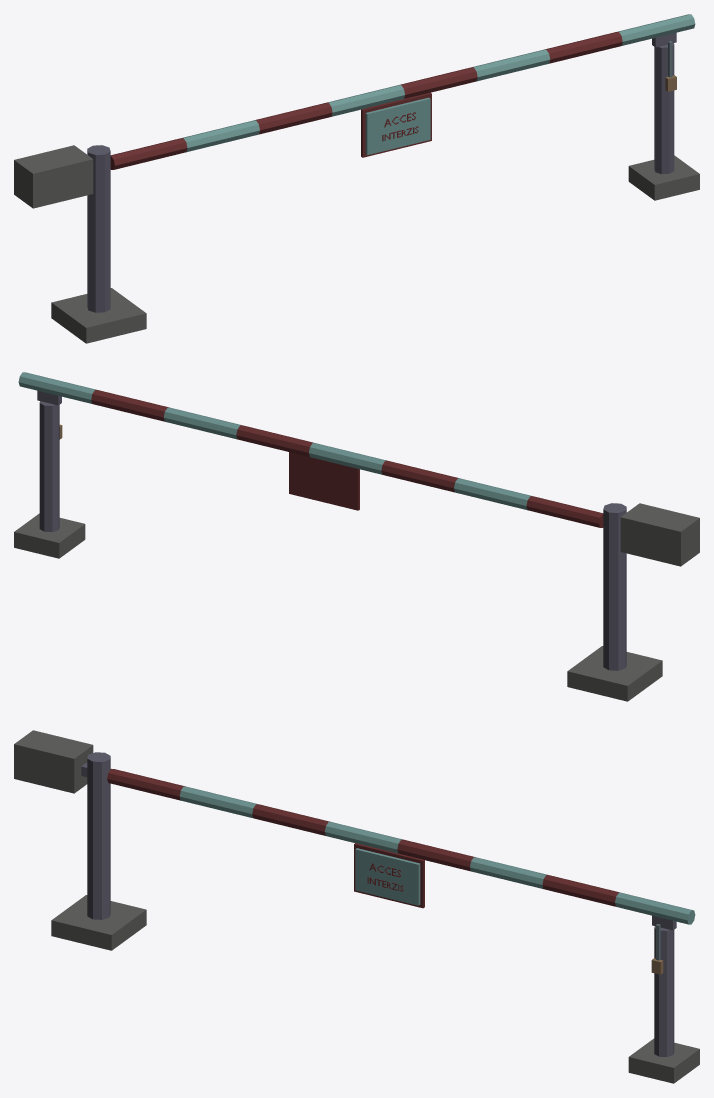
Rendered from bariera.glb.
3 renders of one model, top to bottom at view 1: azimuth 30°, elevation 25°; view 2: azimuth 150°, elevation 25°; view 3: azimuth 330°, elevation 25°, orthographic.
Visible parts, largest first — view 1: Bara, Bariera; view 2: Bara, Bariera; view 3: Bara, Bariera.
Boxes of the visible parts, bbox=[...] form: Bara: bbox=[14, 14, 695, 208]; Bariera: bbox=[51, 32, 699, 343]; Bara: bbox=[18, 372, 699, 566]; Bariera: bbox=[14, 390, 662, 701]; Bara: bbox=[14, 730, 695, 924]; Bariera: bbox=[51, 752, 699, 1083].
Size of the model in its own units: 4.43 by 1.11 by 0.4.
